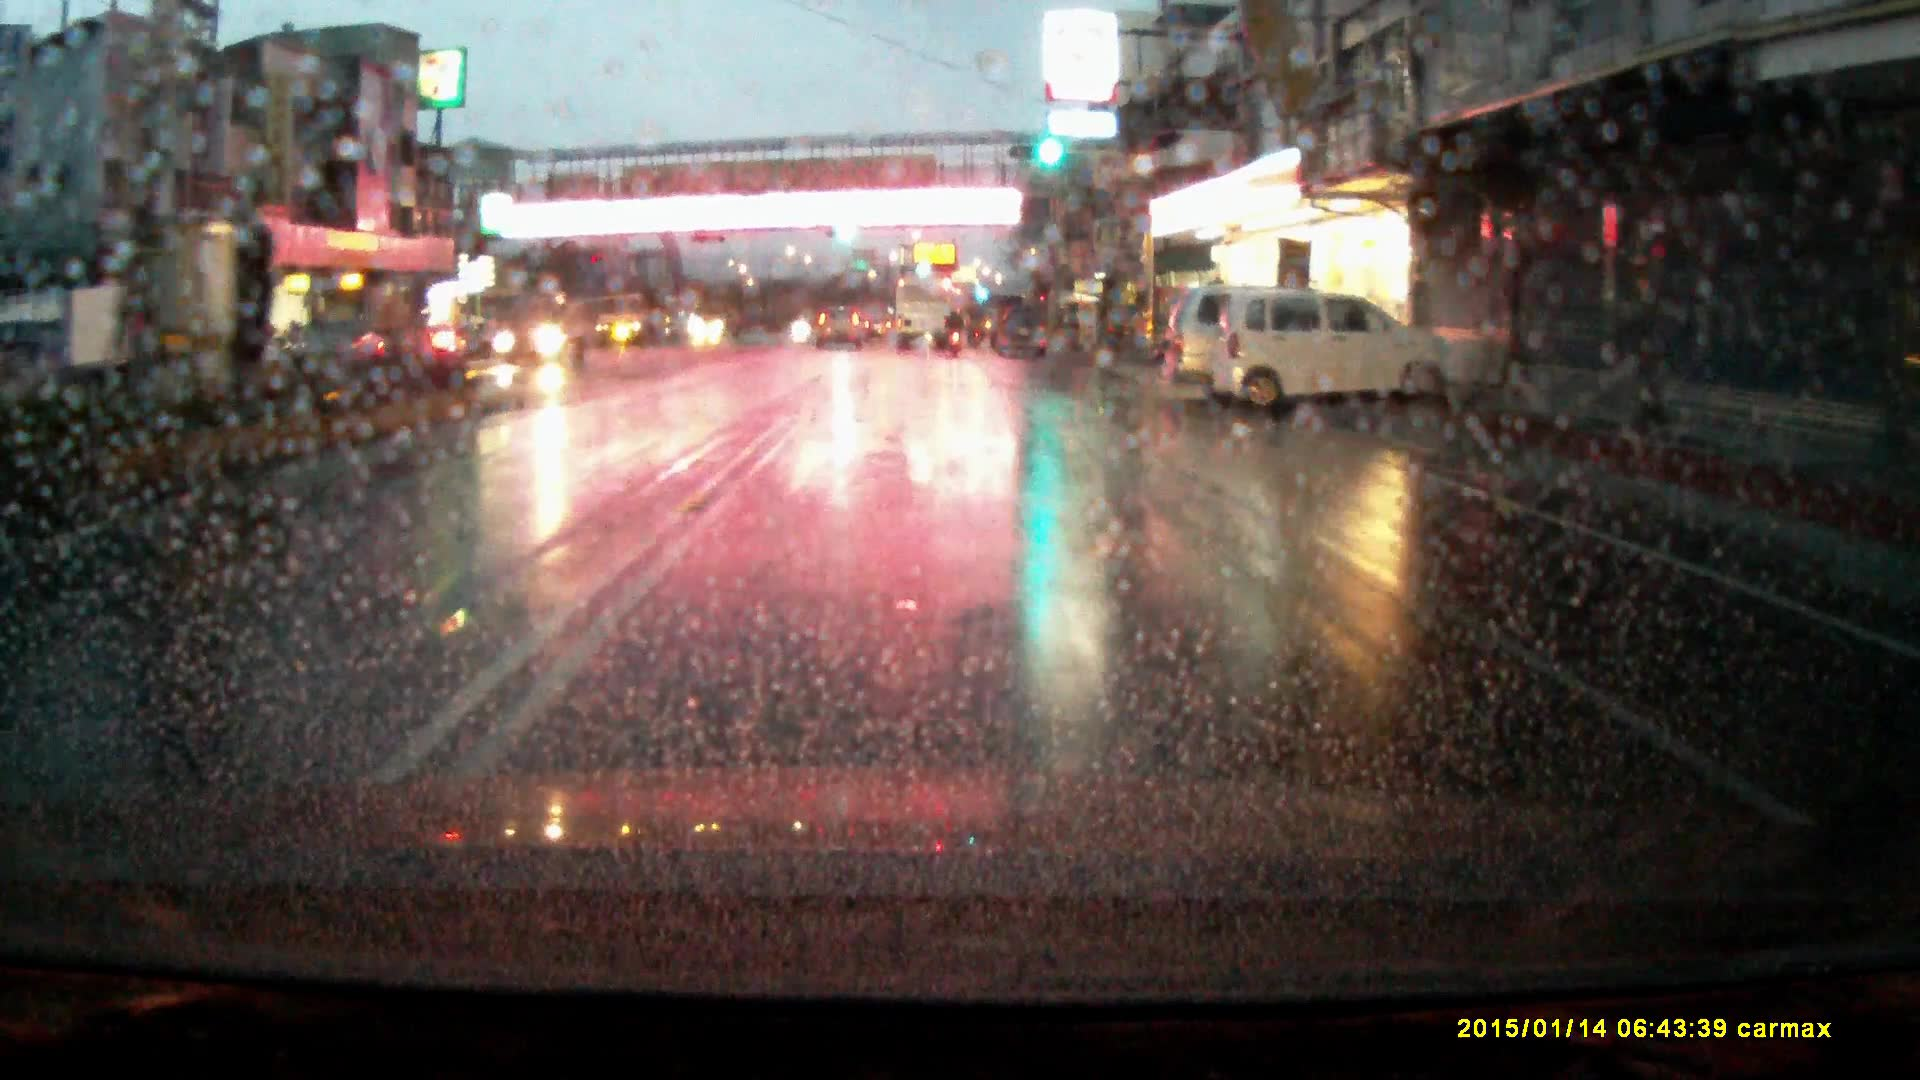rider: (945, 311, 966, 363)
vehicle: (1216, 293, 1482, 424), (1161, 283, 1320, 401), (492, 296, 591, 367), (292, 319, 390, 373), (897, 277, 950, 345), (599, 294, 663, 347), (991, 304, 1052, 359), (404, 323, 473, 365), (689, 298, 743, 342), (817, 304, 865, 349), (1104, 307, 1145, 351)
